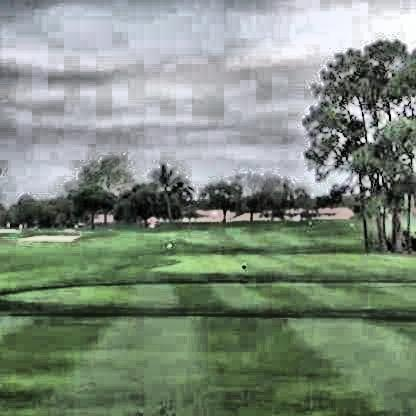golfball: (209, 208, 219, 218)
